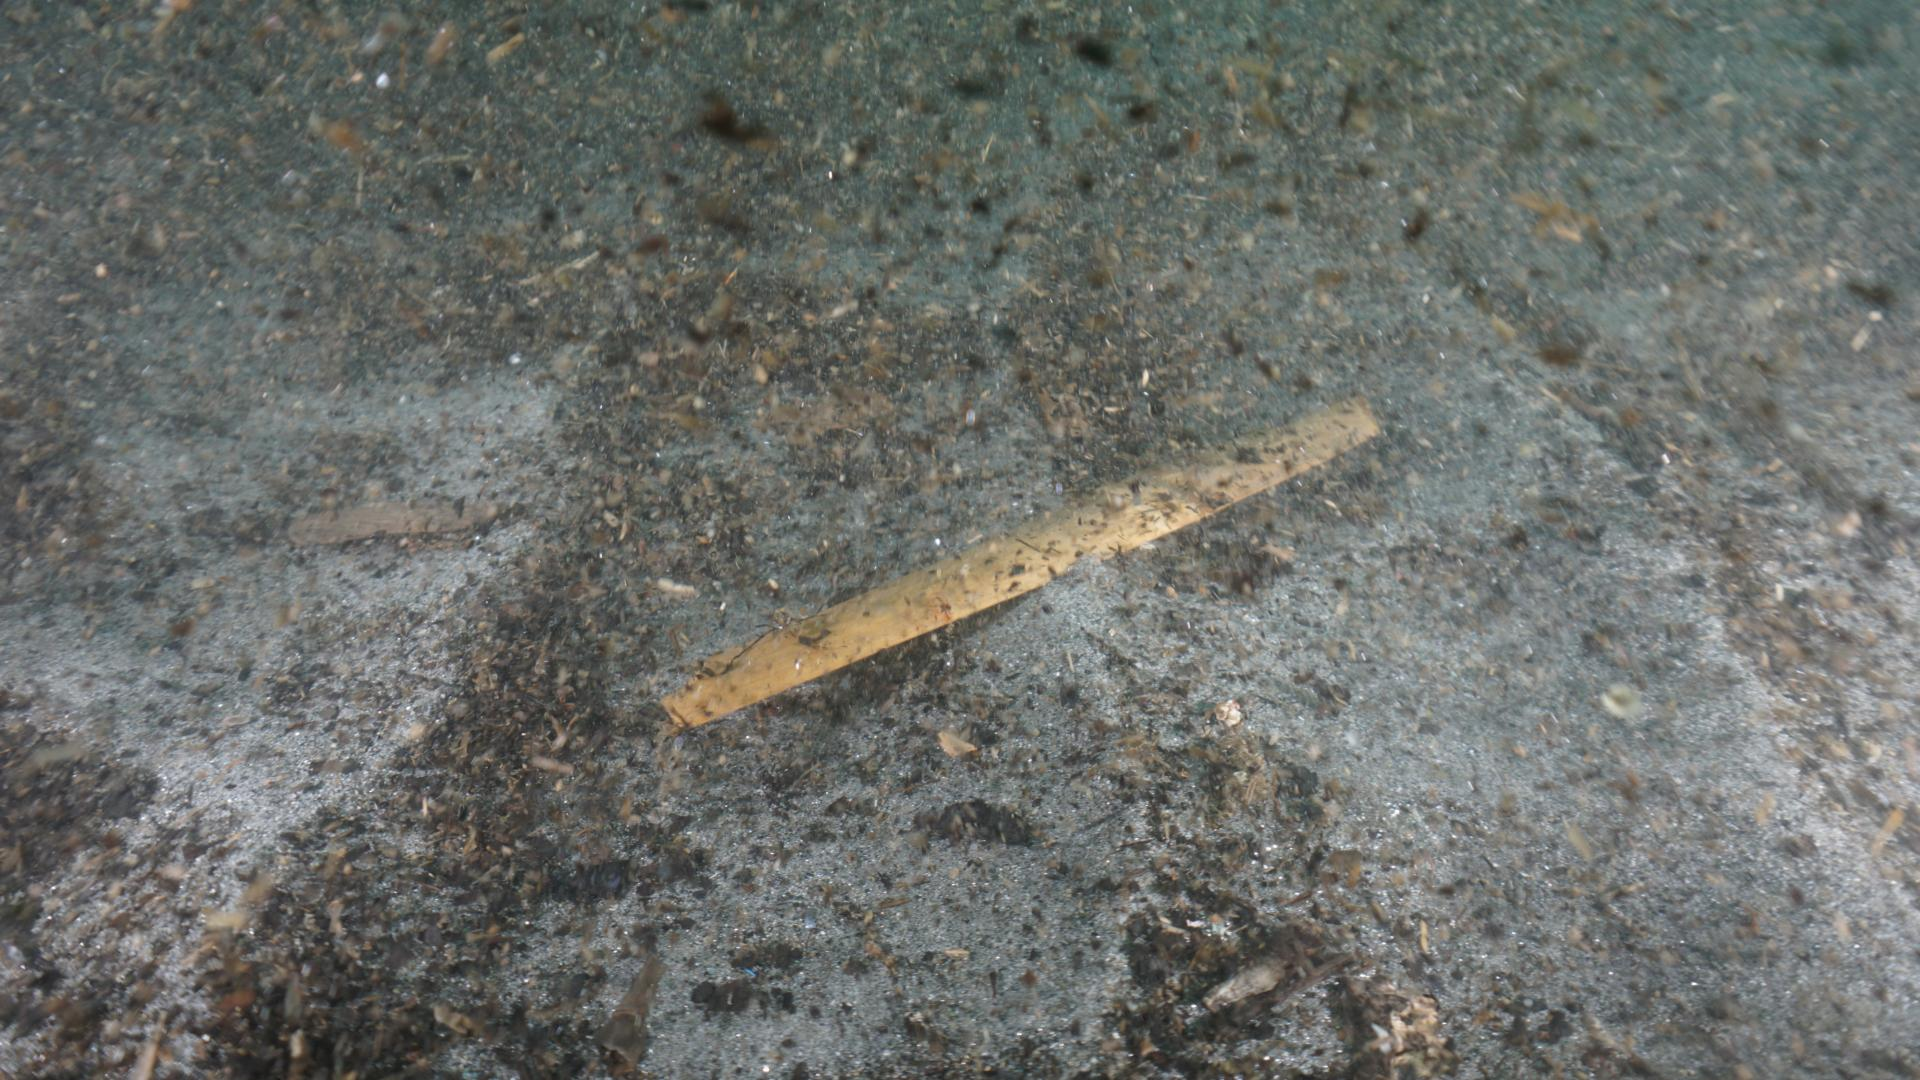wood: (651, 392, 1381, 731)
